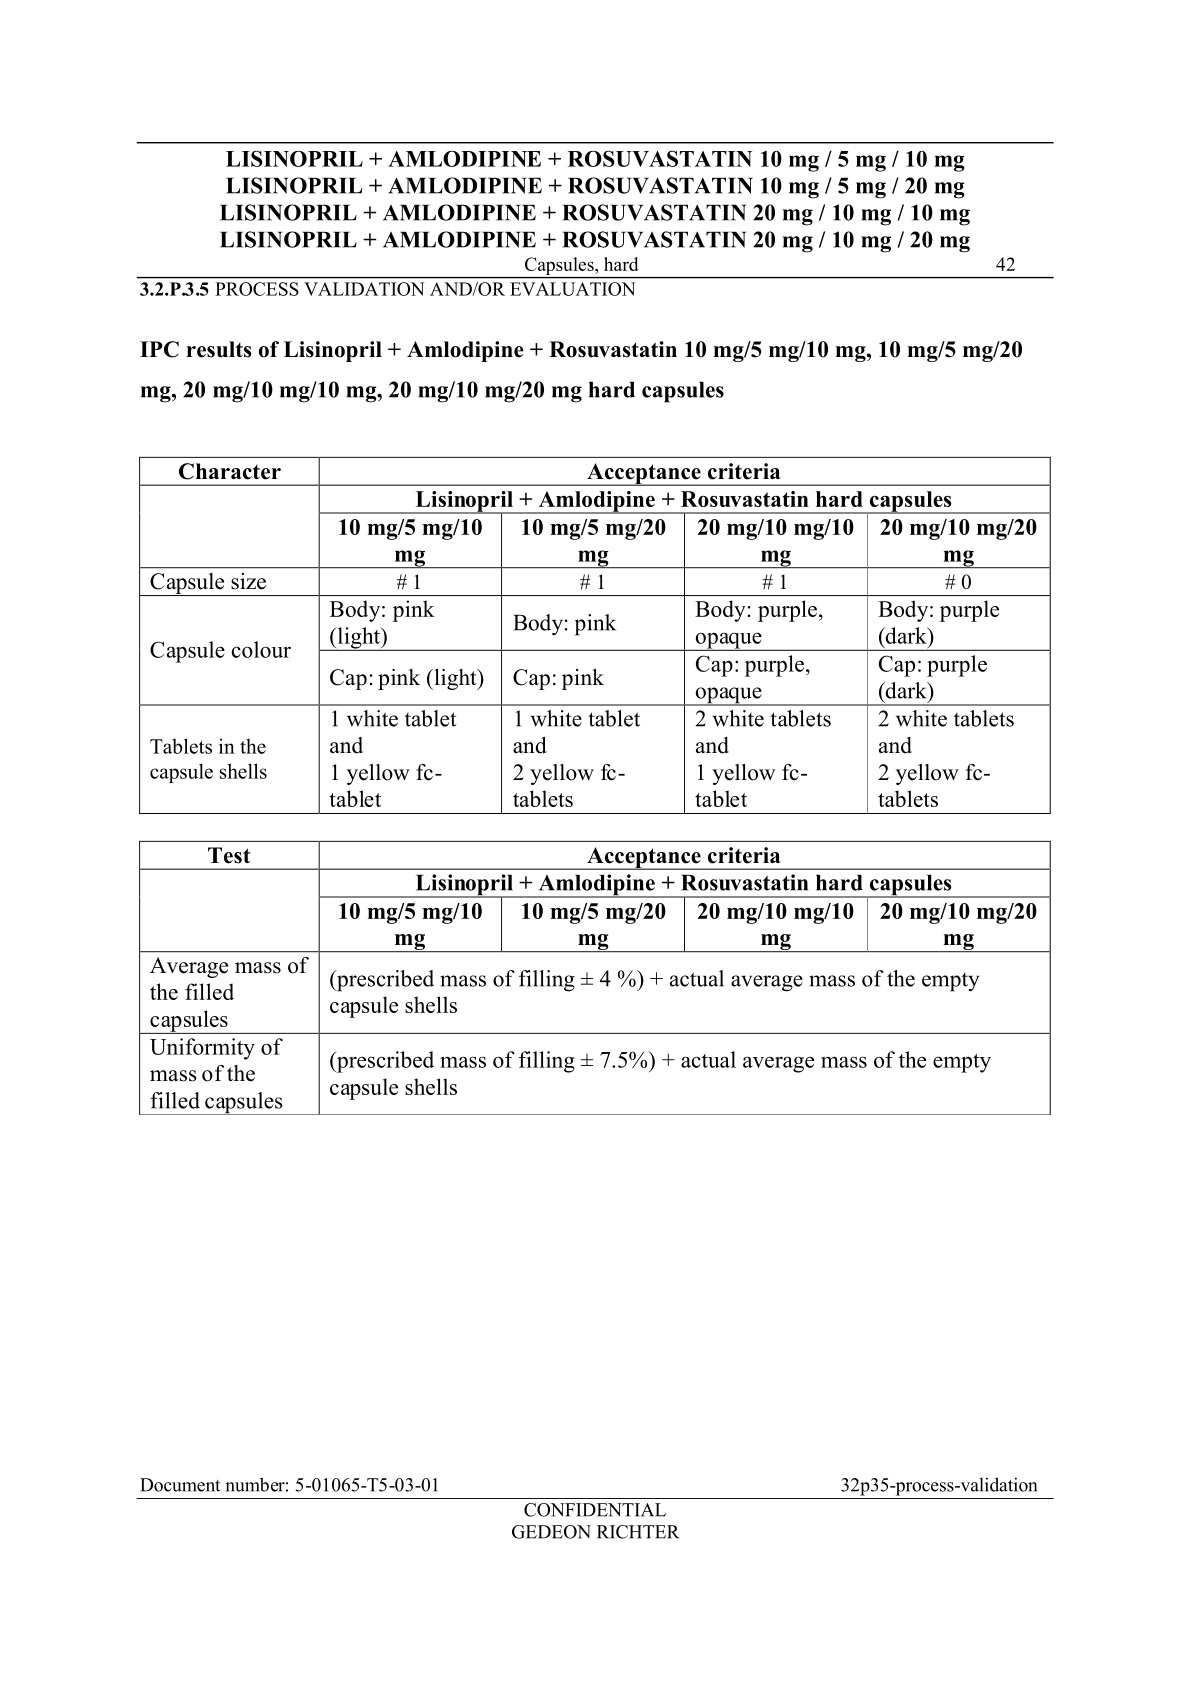merged_cells: (137, 456, 1054, 816), (137, 837, 1054, 1118)
